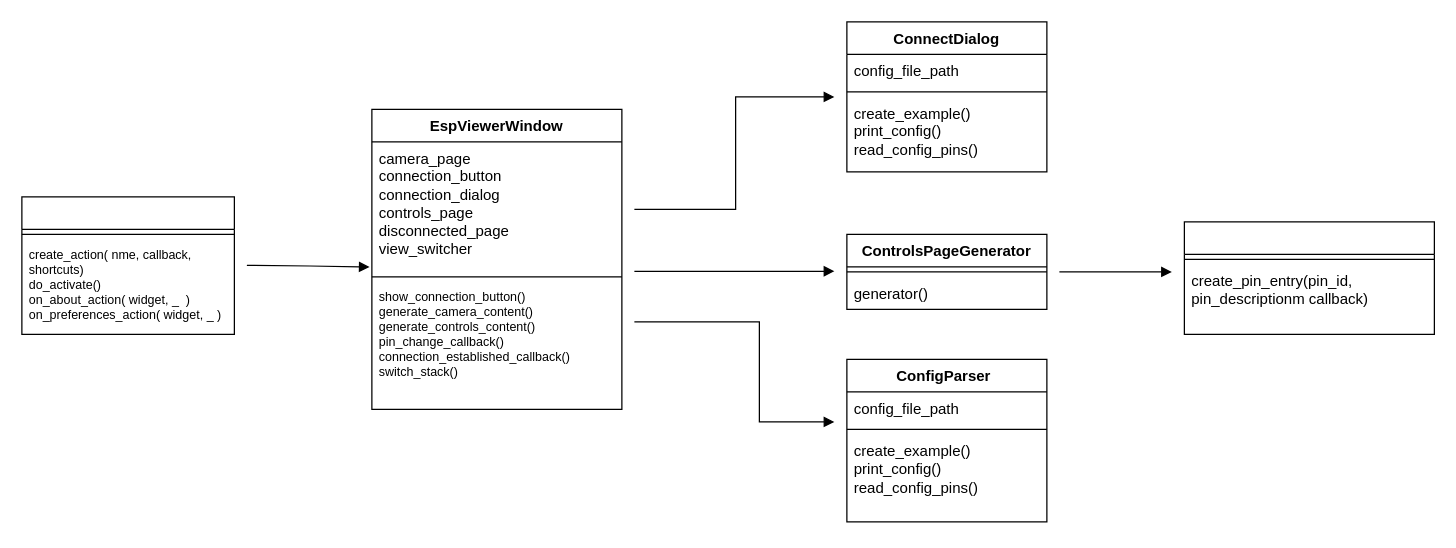
This 1456x548 diagram has some shape labels left out. The shapes that lost their labels are listed below. From the top down, each one's box as (x1, y1, x2, y2) in pixels, then its label:
(21, 196, 234, 334): EspViewerApplication
(1183, 221, 1434, 334): PinEntryFactory
